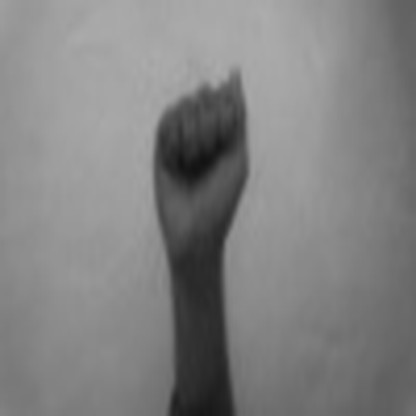a: (147, 64, 256, 247)
